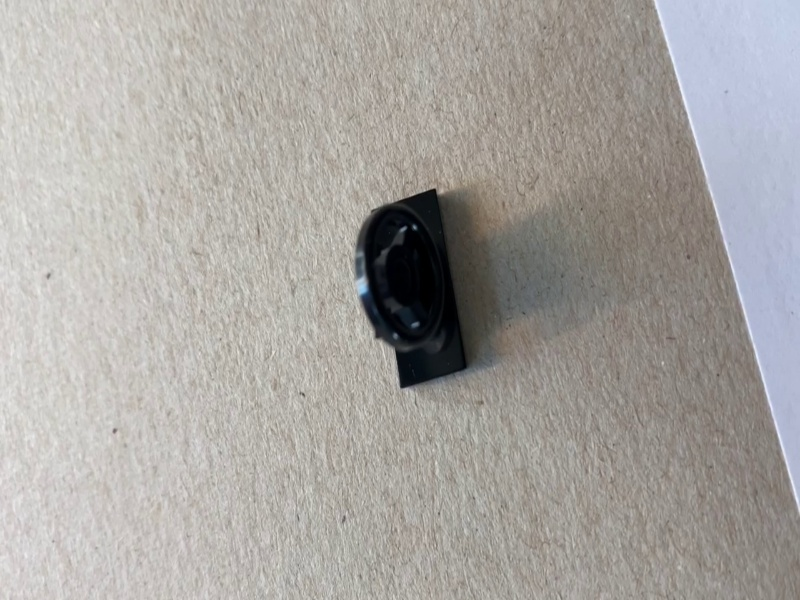steering wheel: (356, 189, 470, 392)
